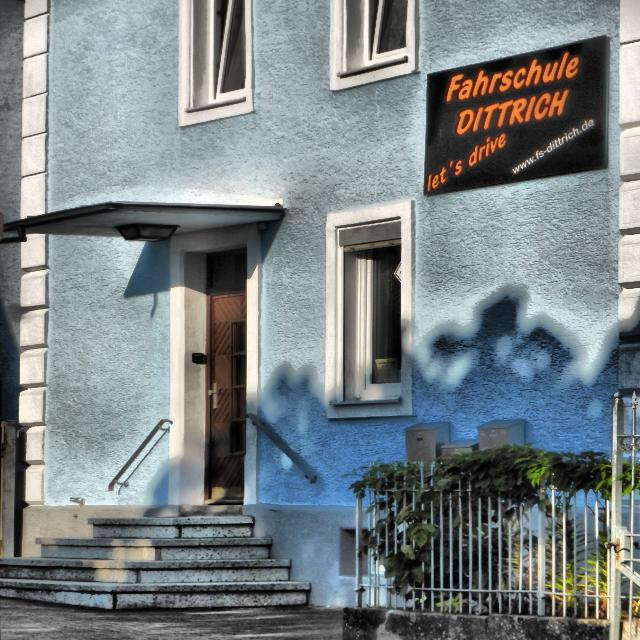escada: (0, 507, 311, 614)
